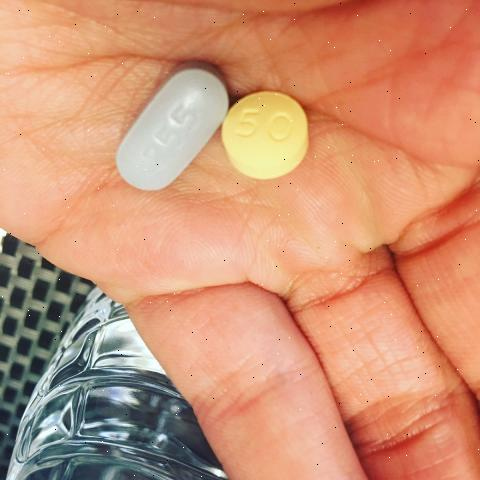Pill: (99, 46, 233, 243)
